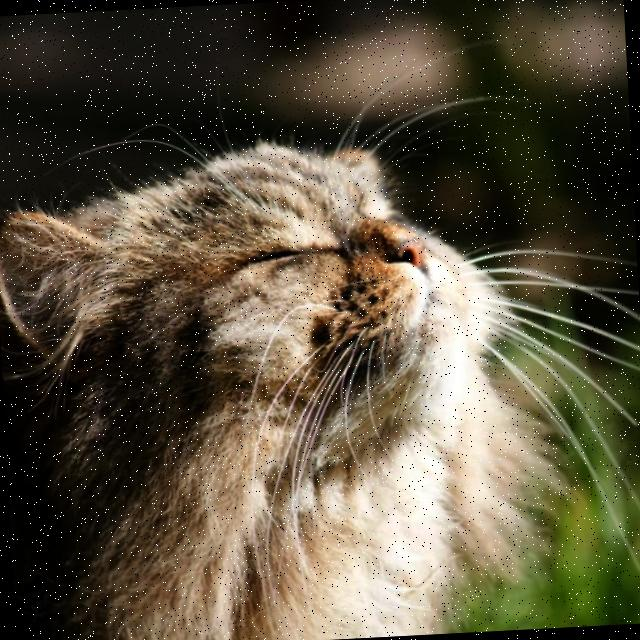Happy: (166, 149, 534, 462)
